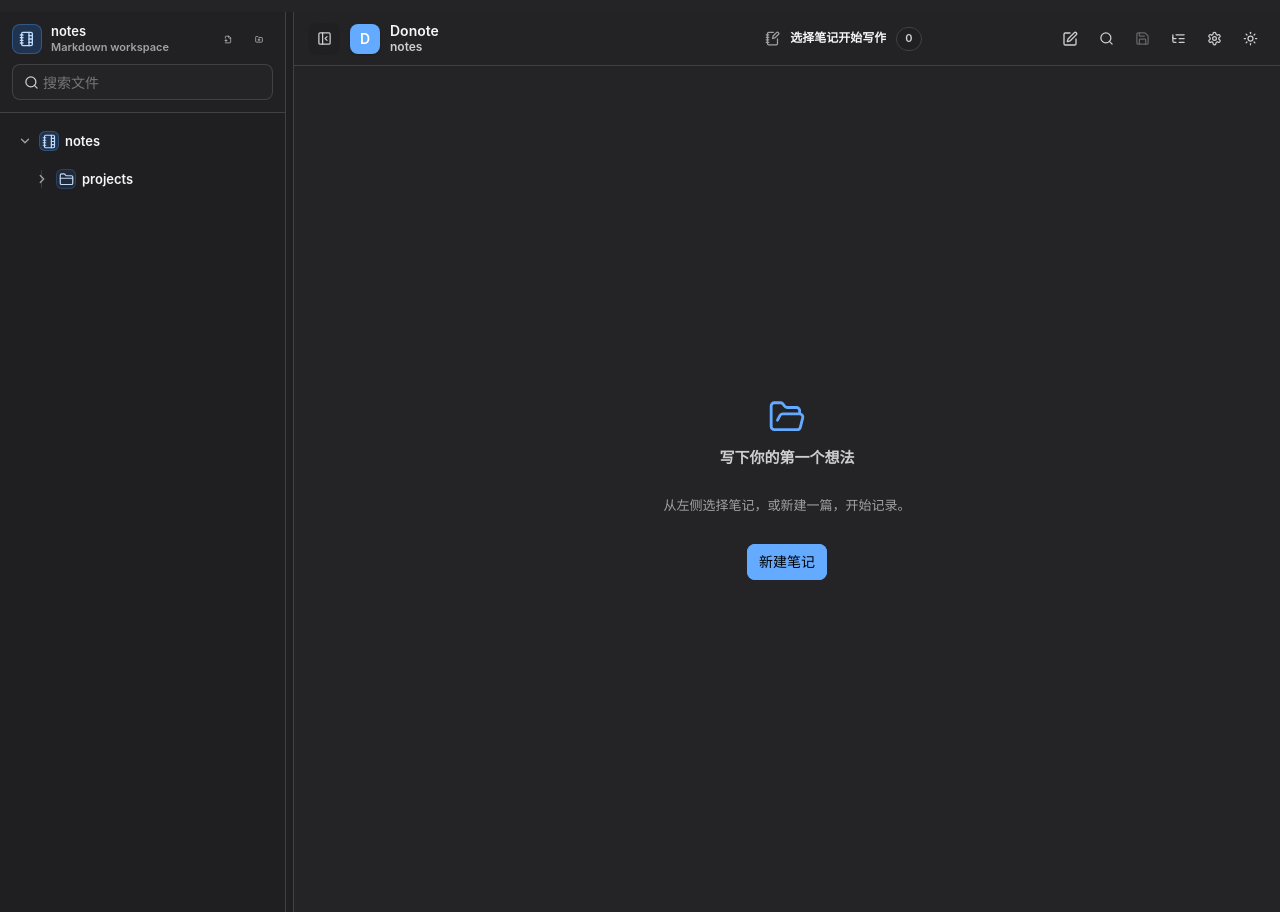
Test: App shell › creates a child folder from a folder context menu
Right-click the button with test id "folder-projects" at (108, 179), box [8, 163, 277, 195]
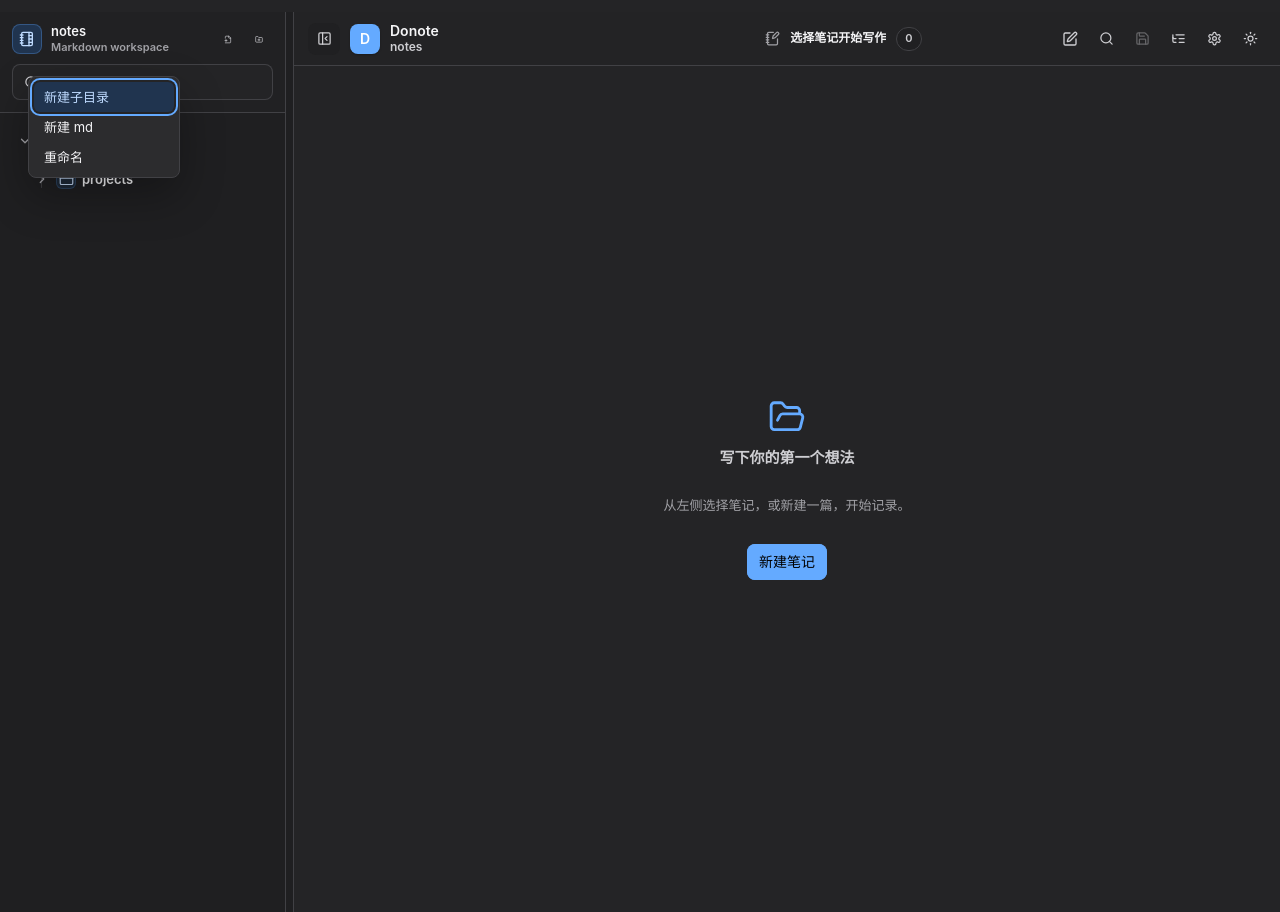
Click the menu item with test id "context-create-folder" at (104, 97), box [34, 82, 174, 112]
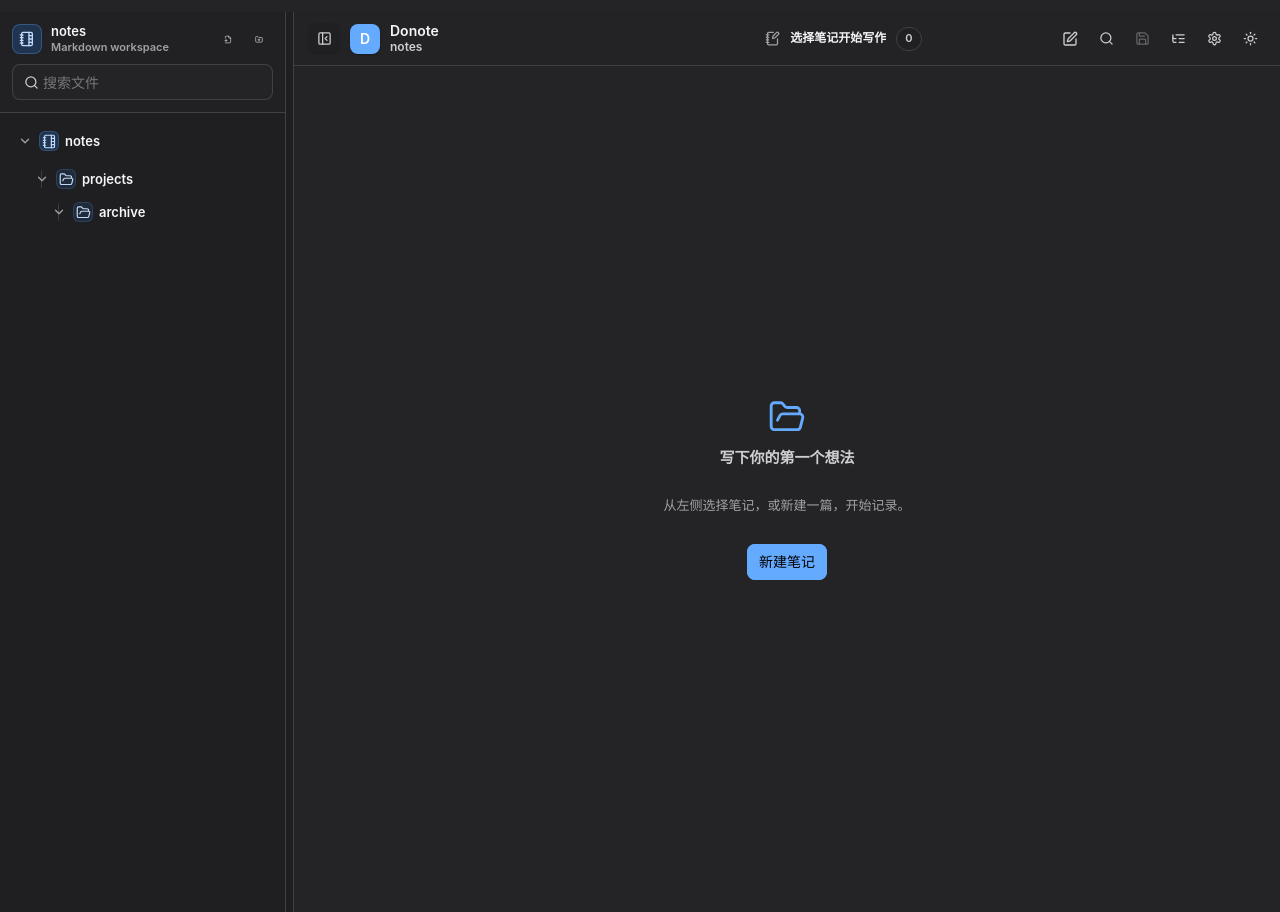
Now the text "archive" is shown, box [99, 204, 145, 220]
